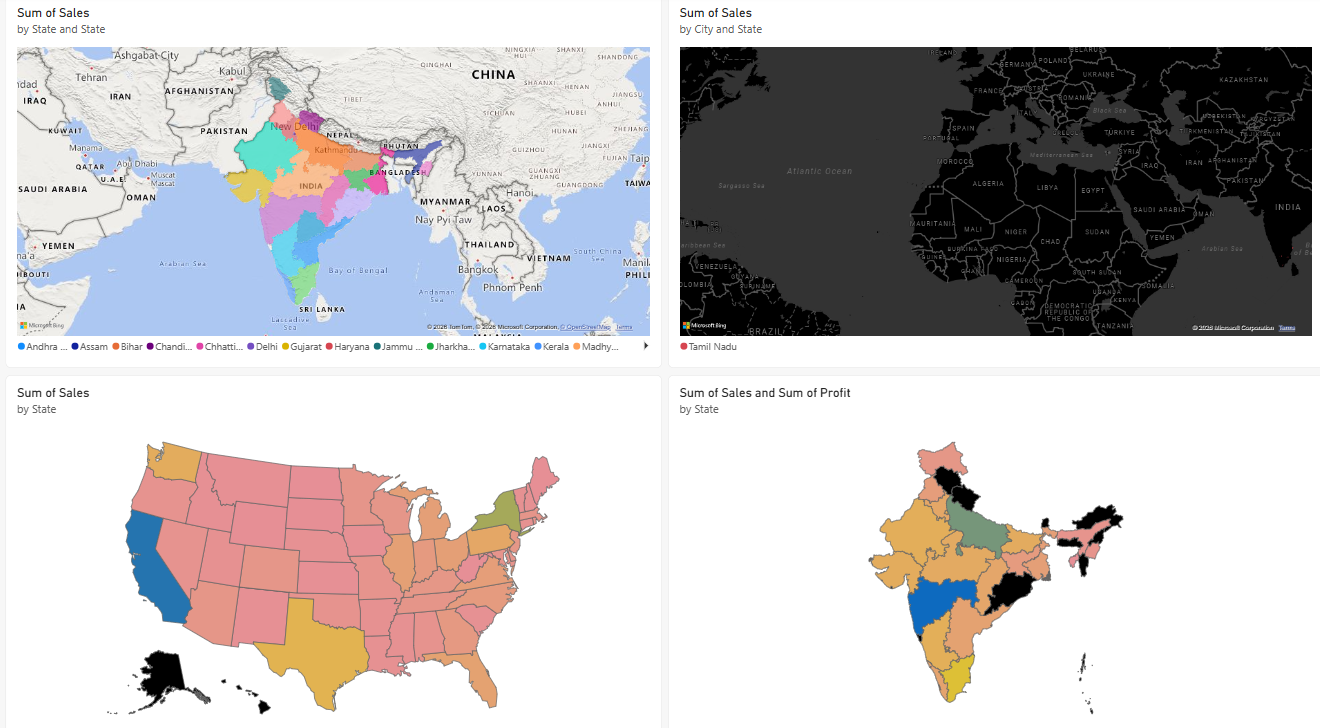

The dashboard page shown, as its layout file describes it:
{"tool":"powerbi","page":{"name":"Page 3","canvas":[1920,1080],"ordinal":2},"visuals":[{"type":"filledMap","fields":{"Category":["Global_Superstore2.State"],"Series":["Global_Superstore2.State"]},"box":[10,0,950,540],"z":0},{"type":"filledMap","fields":{"Category":["Global_Superstore2.City"],"Series":["Global_Superstore2.State"]},"box":[970,0,950,540],"z":1},{"type":"shapeMap","fields":{"Category":["Global_Superstore2.State"],"Value":["Sum(Global_Superstore2.Sales)"]},"box":[10,550,950,530],"z":2},{"type":"shapeMap","fields":{"Category":["Global_Superstore2.State"],"Value":["Sum(Global_Superstore2.Sales)"]},"box":[970,550.1,950,530],"z":3}]}

Visuals, with their boxes in screenshot pixels (x1, y1, x2, y2), scaled from the page's 1920x1080 canvas onto the 1320x728 screenshot:
filledMap - Global_Superstore2.State x Global_Superstore2.State: [left=7, top=0, right=660, bottom=364]
filledMap - Global_Superstore2.City x Global_Superstore2.State: [left=667, top=0, right=1319, bottom=364]
shapeMap - Global_Superstore2.State x Sum(Global_Superstore2.Sales): [left=7, top=371, right=660, bottom=727]
shapeMap - Global_Superstore2.State x Sum(Global_Superstore2.Sales): [left=667, top=371, right=1319, bottom=727]
